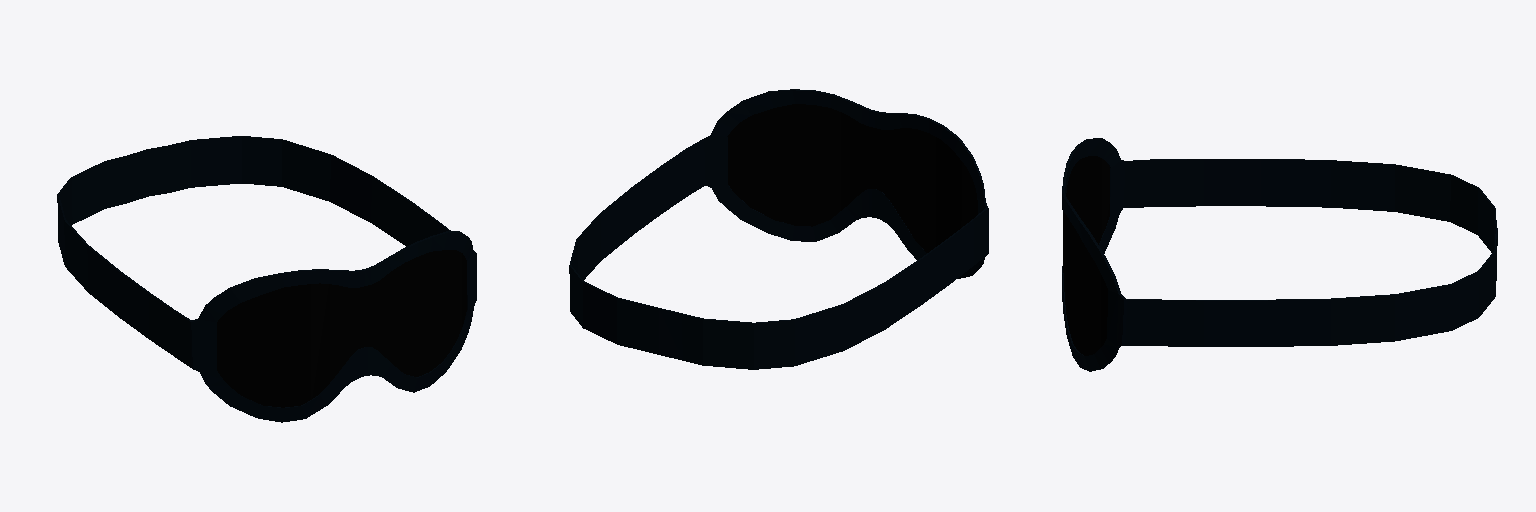
Rendered from glasses25.001.obj.
3 views of the same model, side by side, from view 1: azimuth 30°, elevation 25°; view 2: azimuth 150°, elevation 25°; view 3: azimuth 270°, elevation 25° (orthographic).
Parts seen in each view (by area): view 1: glasses25.001; view 2: glasses25.001; view 3: glasses25.001.
Part boxes in pixels (x1,y1,x2,y2): glasses25.001: (57,136,476,422); glasses25.001: (569,89,988,369); glasses25.001: (1062,138,1497,371).
Bounding box in the file's own units: 2.03 × 1.01 × 2.63.